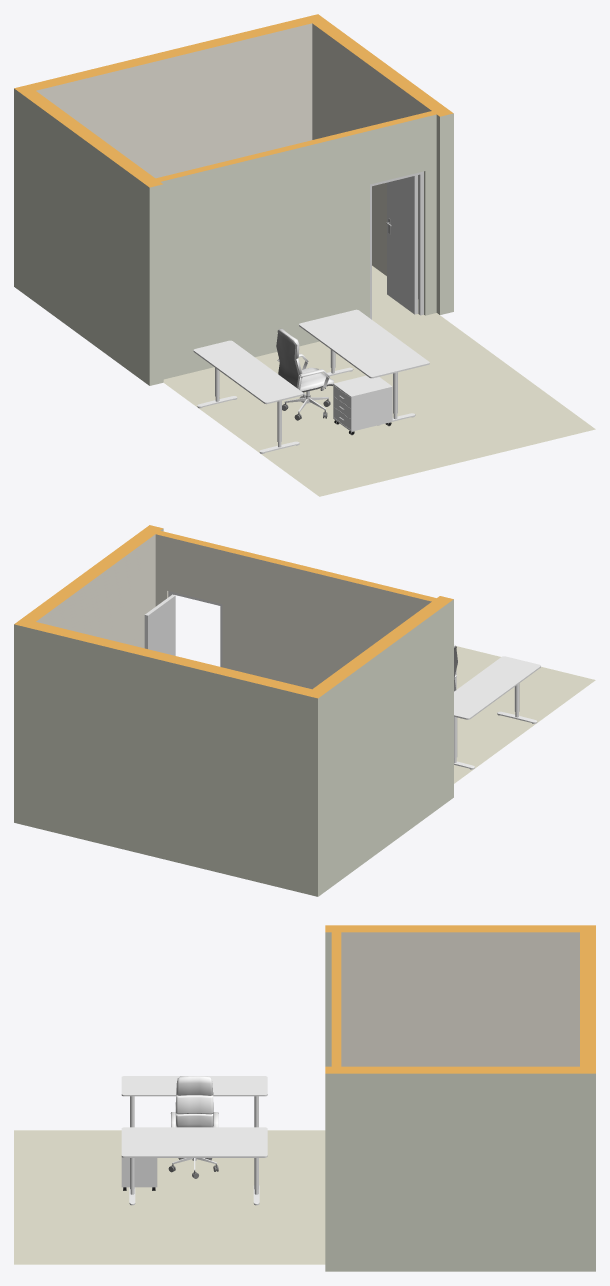
Rendered from abc.gltf.
The picture shows the model from 3 angles, top to bottom: view 1: azimuth 30°, elevation 25°; view 2: azimuth 150°, elevation 25°; view 3: azimuth 270°, elevation 25°; orthographic projection.
Visible parts, largest first — view 1: work room2; view 2: work room2; view 3: work room2.
Boxes of the visible parts, x1,y1,x2,y2 form: work room2: (14,14,595,496); work room2: (14,525,595,896); work room2: (14,925,595,1271).
Bounding box in the file's own units: 4.4 × 2.74 × 7.31.
